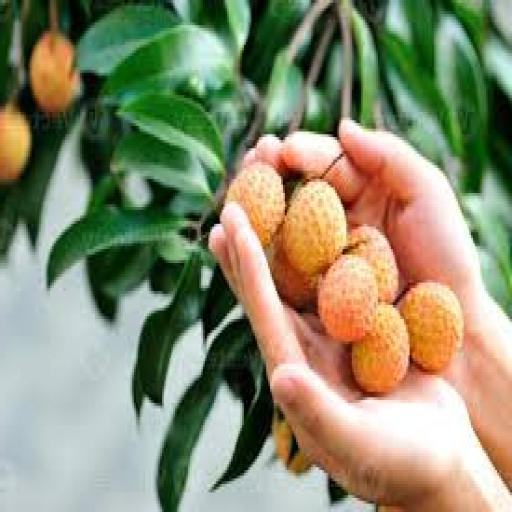lychee: (282, 180, 345, 276), (400, 283, 462, 372), (318, 255, 376, 344), (351, 305, 408, 394), (225, 163, 283, 246), (27, 31, 77, 114), (266, 230, 317, 307), (346, 227, 397, 302), (271, 412, 309, 475), (0, 107, 30, 181)
